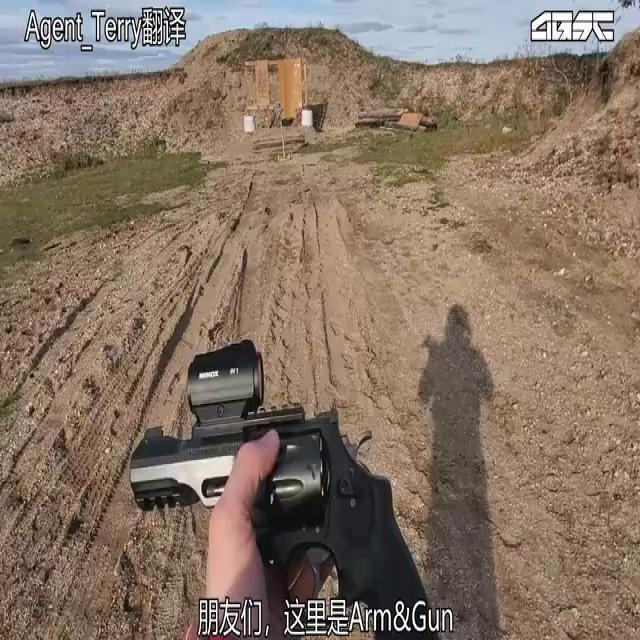gun-knife-thesis - v11 Yolov5 augmented: (138, 364, 425, 639)
